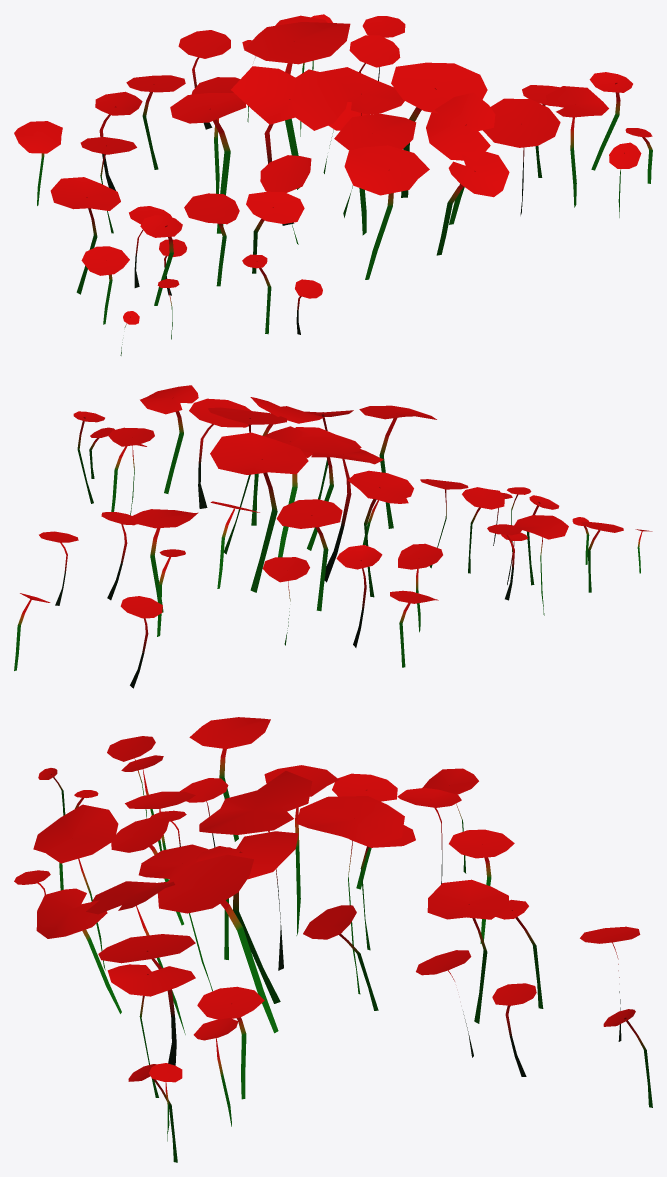
Rendered from rijwE_Var2_LOD0.fbx.
3 renders of one model, top to bottom at view 1: azimuth 30°, elevation 25°; view 2: azimuth 150°, elevation 25°; view 3: azimuth 270°, elevation 25°, orthographic. The views are drawn at different scales.
Visible parts, largest first — view 1: _589a_Var2_LOD0; view 2: _589a_Var2_LOD0; view 3: _589a_Var2_LOD0.
Boxes of the visible parts, x1,y1,x2,y2 form: _589a_Var2_LOD0: [14, 14, 652, 355]; _589a_Var2_LOD0: [14, 385, 652, 688]; _589a_Var2_LOD0: [14, 717, 652, 1162].
Size of the model in its own units: 70.52 by 21.93 by 58.56.
